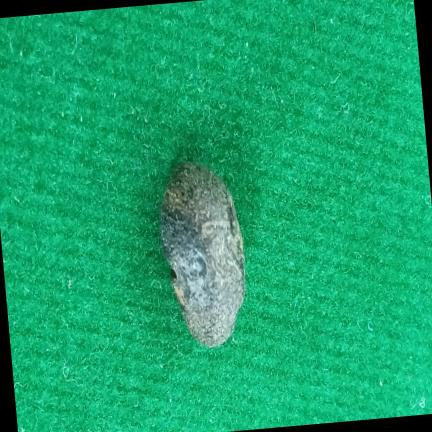partial-black: (160, 162, 245, 347)
